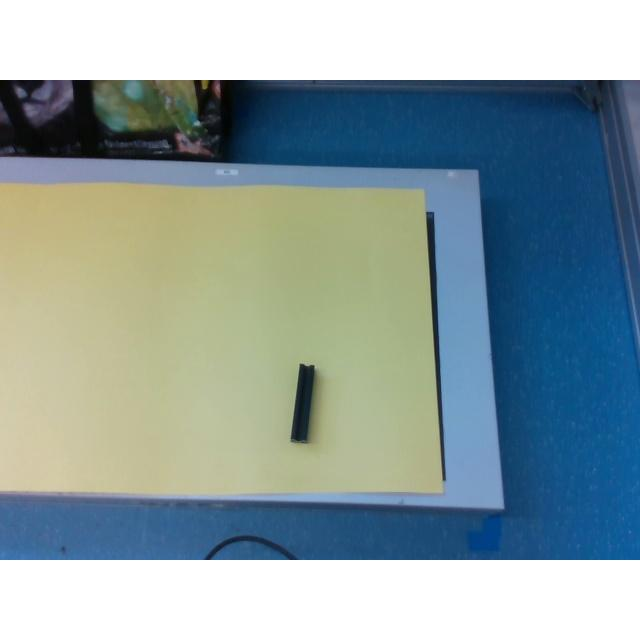F20_20_B: (290, 364, 314, 441)
